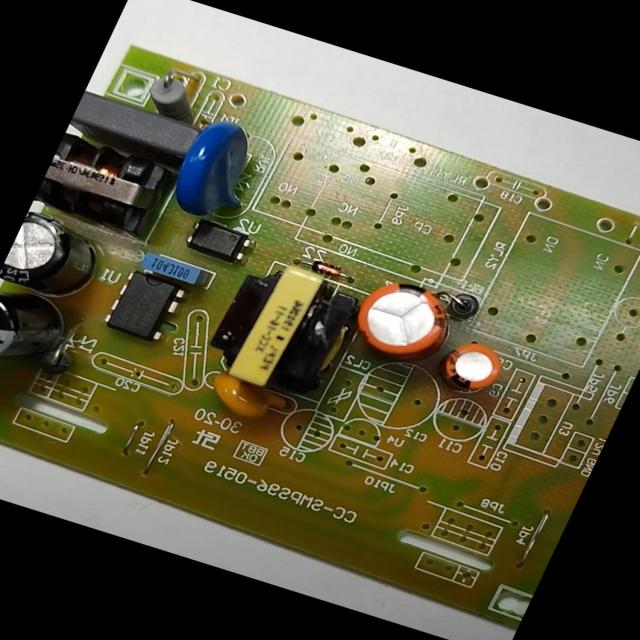Cap1: (345, 272, 468, 368)
Cap2: (434, 336, 508, 397)
Cap3: (0, 209, 116, 309)
Cap4: (0, 282, 83, 386)
MOSFET: (102, 267, 190, 344)
Mov: (159, 112, 279, 230)
Resistor: (139, 70, 207, 124)
Transformer: (198, 256, 367, 404), (31, 126, 184, 242)
